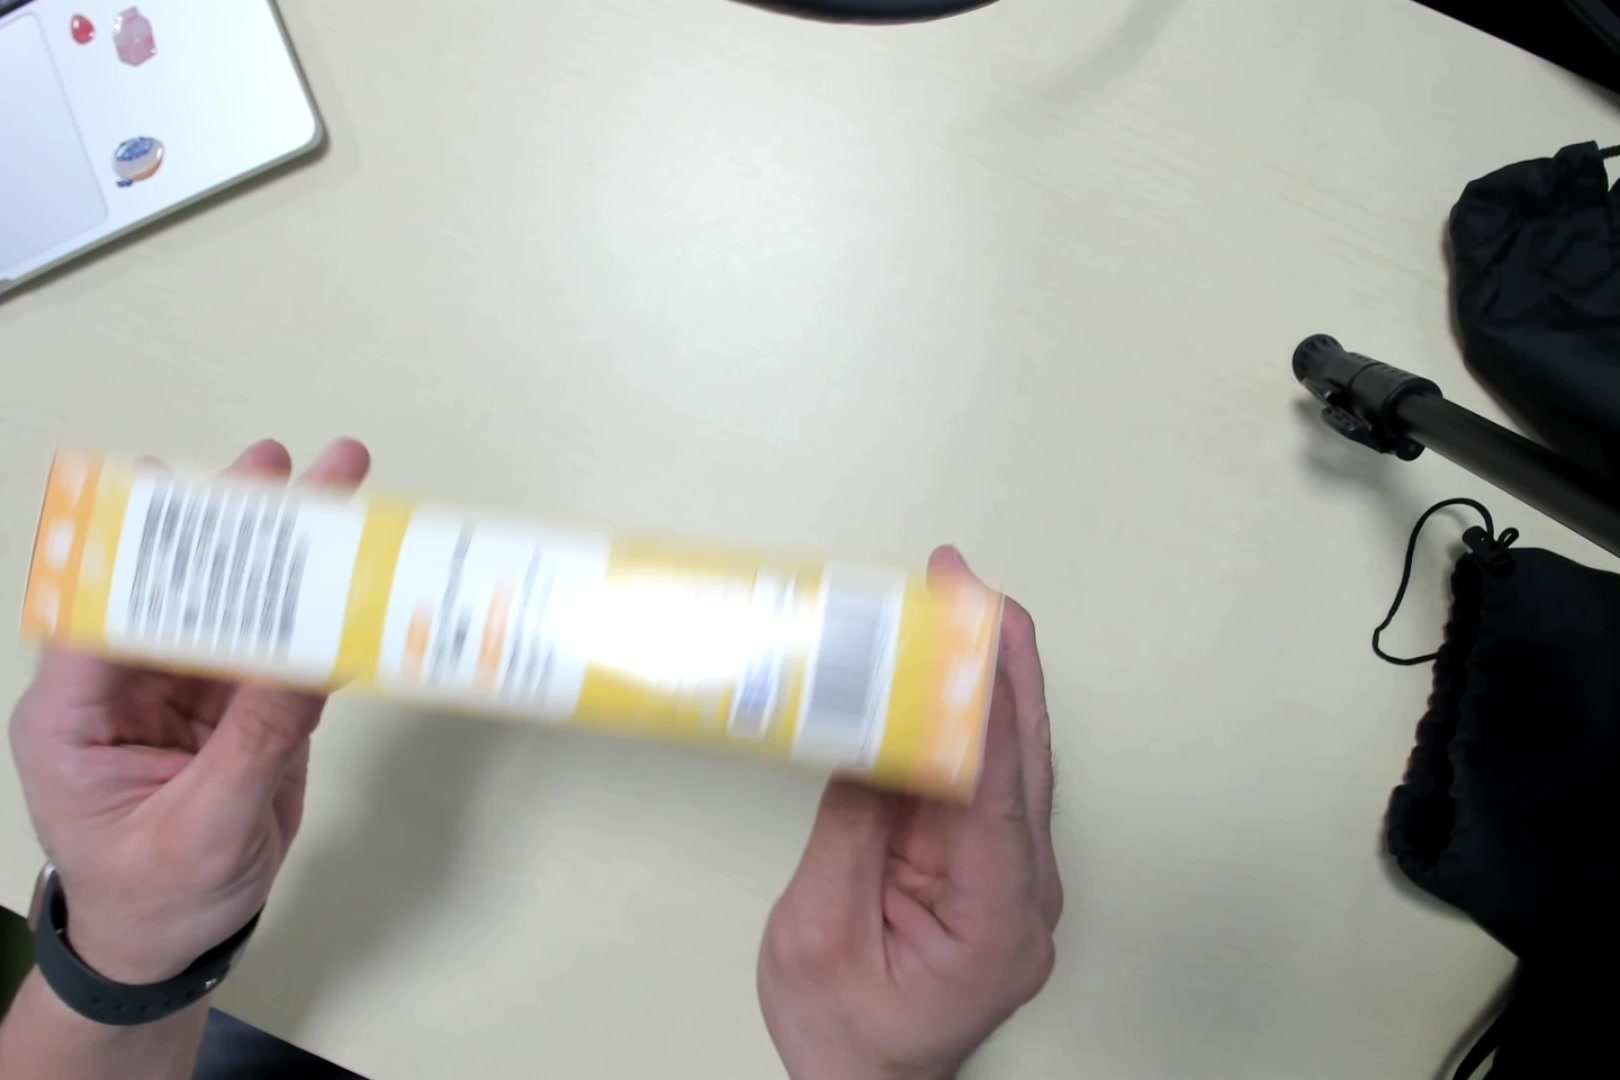DriedVegetables_100-199g_NonHalal_NonHealthy: (33, 444, 1006, 806)
